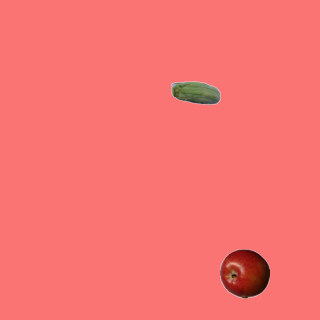Apple Braeburn: (219, 248, 269, 298)
Corn Husk: (170, 69, 220, 119)
